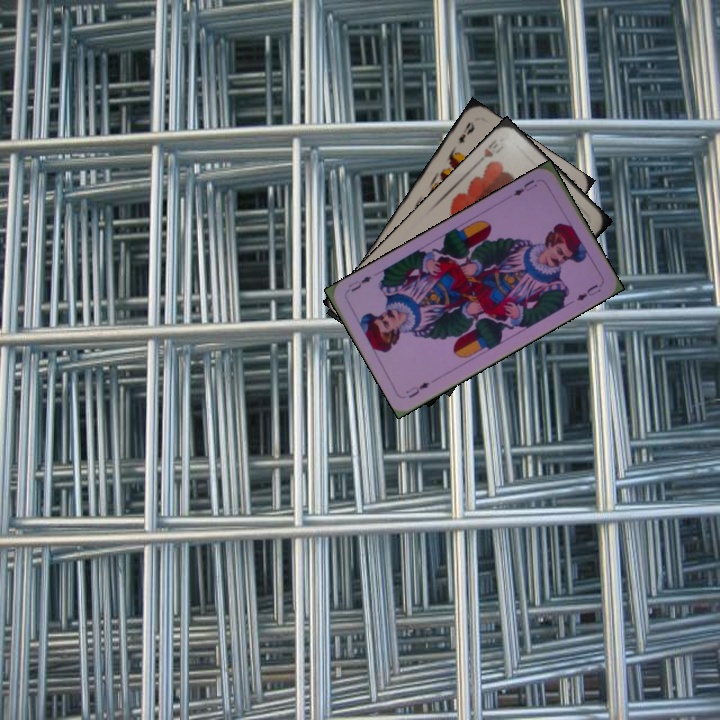E9: (454, 117, 477, 147)
EU: (509, 175, 539, 199), (402, 378, 432, 401)
H10: (473, 135, 506, 167)
